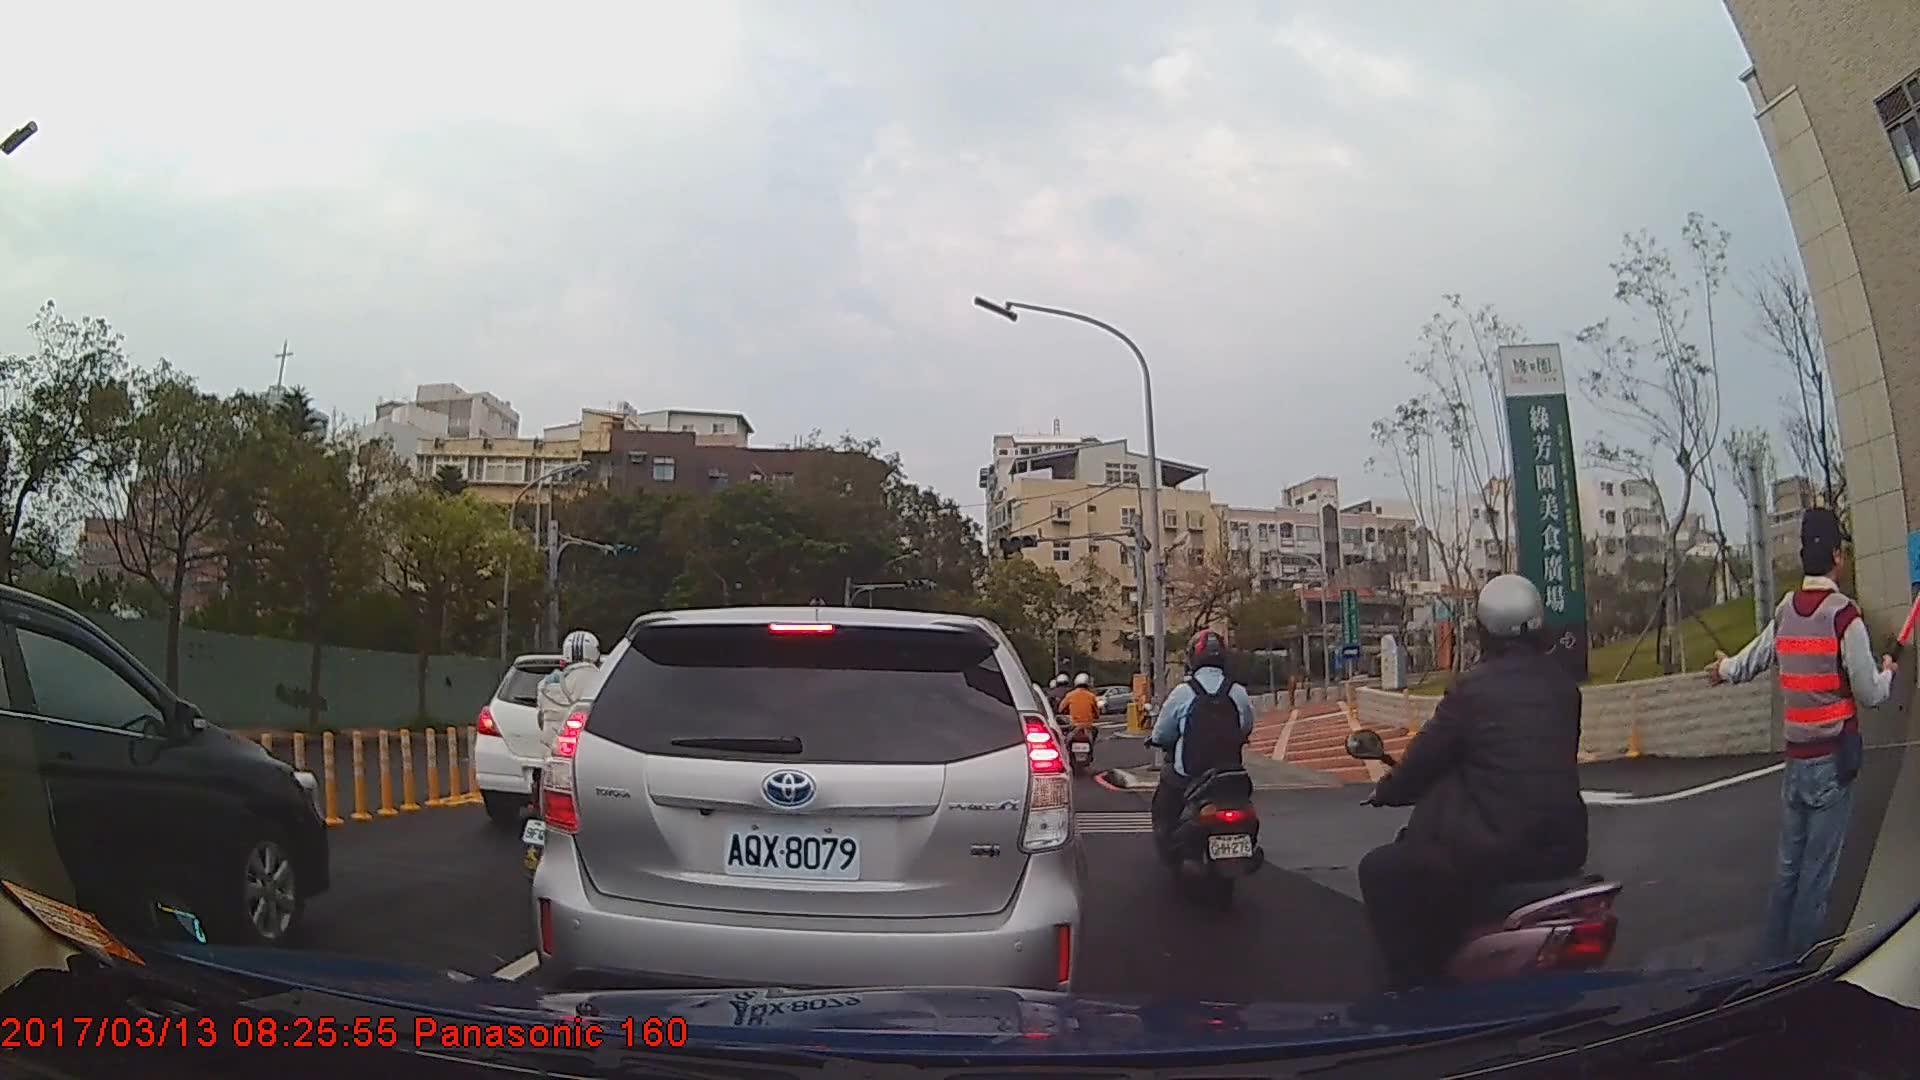pedestrian: (1705, 504, 1898, 1001)
rider: (1348, 575, 1621, 1044), (1145, 630, 1256, 912), (1061, 671, 1103, 768)
vehicle: (530, 604, 1087, 1017), (0, 579, 328, 963)
